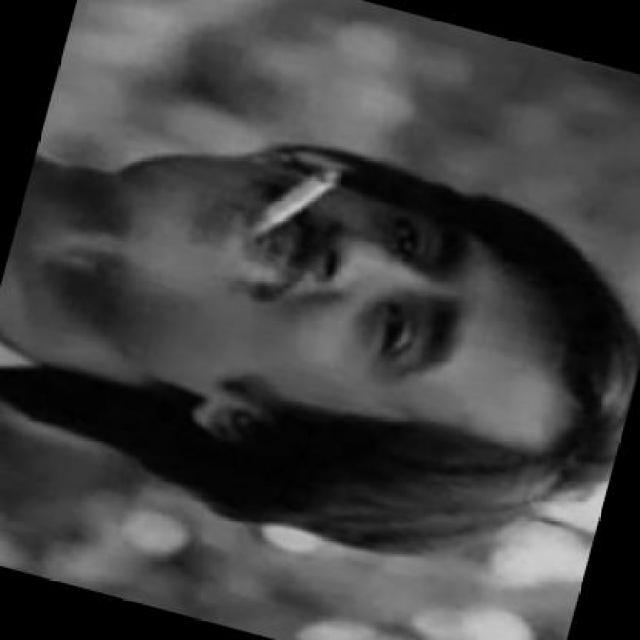cigarette: (238, 147, 344, 256)
